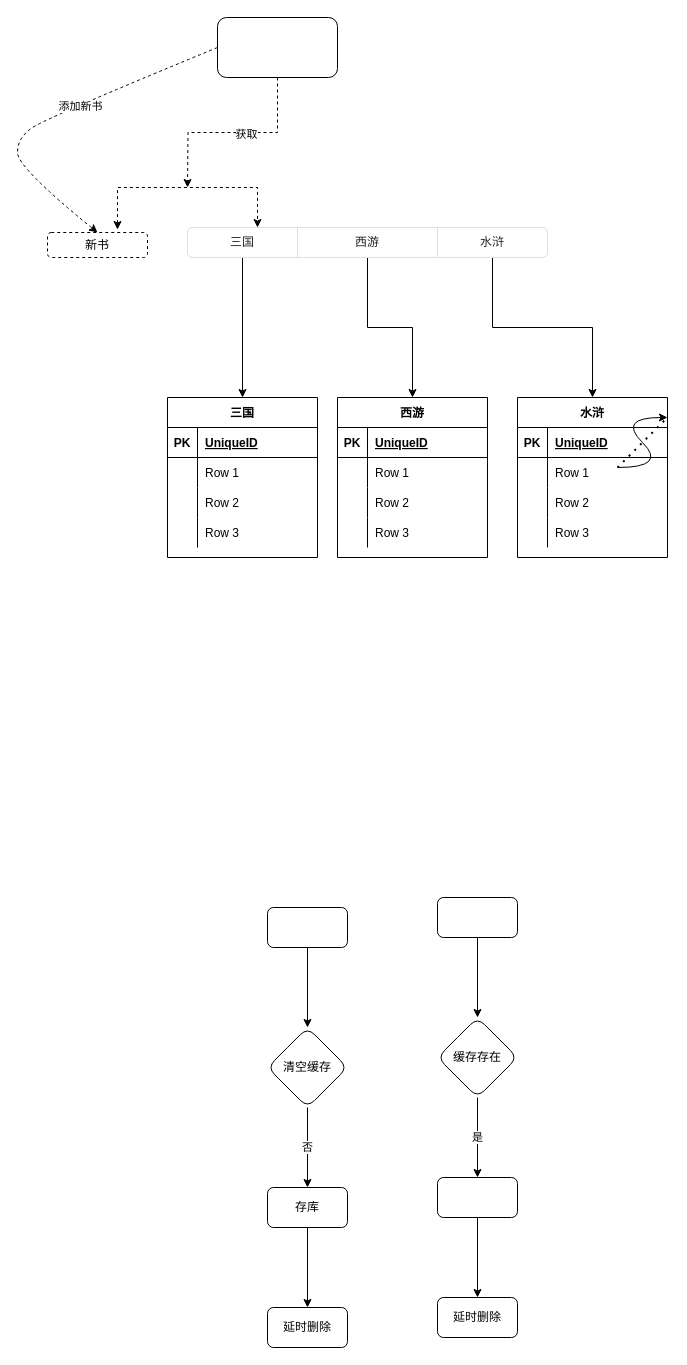
The diagram is 687 pixels wide and 1365 high, and some of its shapes have lost their labels. The centre of each missing label's shape, as x and y in pixels:
"添加/删除新书" belongs at [307,927].
"用户" belongs at [277,47].
"读取" belongs at [477,917].
"读取缓存" belongs at [477,1197].
